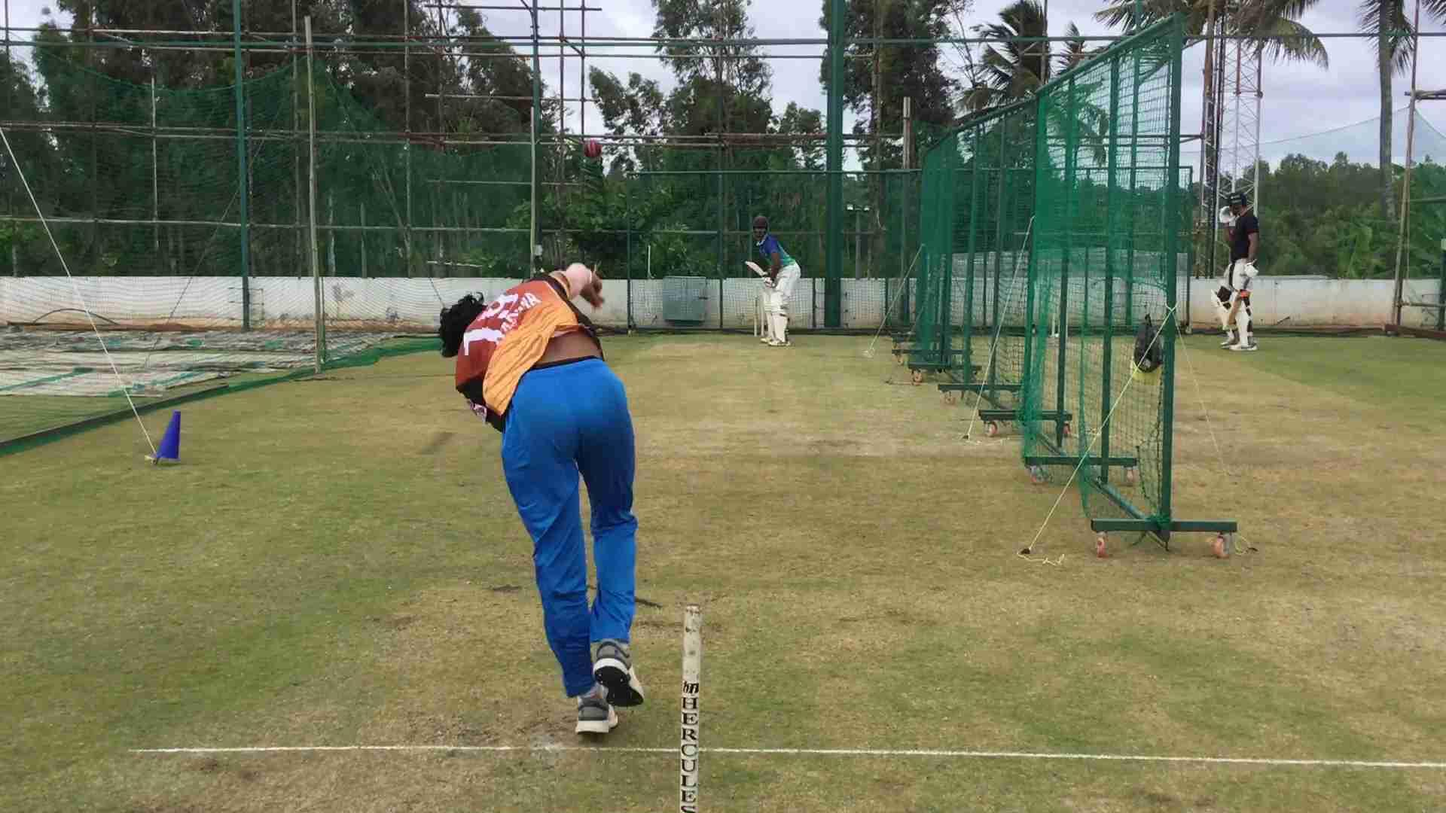batsman: (742, 210, 801, 350)
